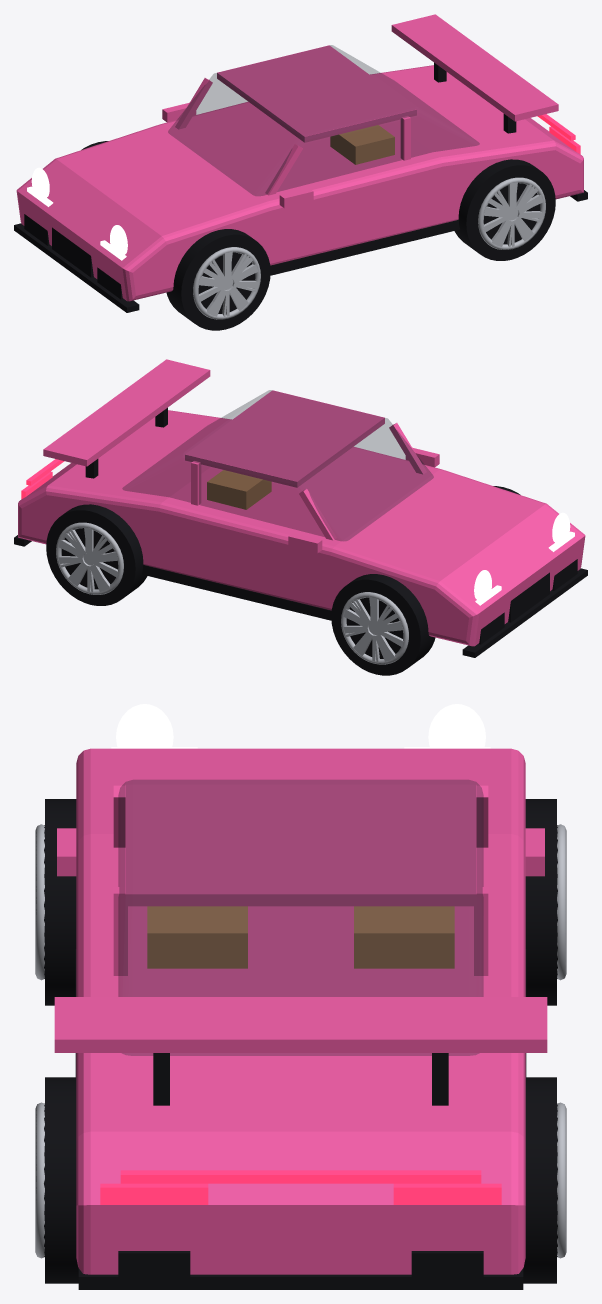
The model's file is porsche.glb.
The picture shows the model from 3 angles, top to bottom: view 1: azimuth 30°, elevation 25°; view 2: azimuth 150°, elevation 25°; view 3: azimuth 270°, elevation 25°; orthographic projection. The views are drawn at different scales.
Parts seen in each view (by area): view 1: object 1, object 2, roof, object 178, object 50, object 122, object 12, object 171, object 167, object 52, object 124, object 166 (+8 smaller); view 2: object 1, object 2, roof, object 178, object 14, object 86, object 7, object 169, object 167, object 16, object 88, object 166 (+8 smaller); view 3: object 1, object 2, roof, object 178, object 86, object 122, object 169, object 171, object 168, object 14, object 50, object 175 (+18 smaller).
Boxes of the visible parts, x1=… form: object 1: x1=16, y1=65, x2=583, y2=301; object 2: x1=168, y1=45, x2=479, y2=195; roof: x1=217, y1=45, x2=416, y2=142; object 178: x1=391, y1=14, x2=558, y2=121; object 50: x1=166, y1=229, x2=270, y2=330; object 122: x1=454, y1=159, x2=555, y2=260; object 12: x1=270, y1=220, x2=459, y2=275; object 171: x1=330, y1=125, x2=394, y2=164; object 167: x1=14, y1=223, x2=139, y2=312; object 52: x1=193, y1=247, x2=260, y2=319; object 124: x1=478, y1=177, x2=545, y2=249; object 166: x1=52, y1=227, x2=93, y2=277; object 1: x1=18, y1=410, x2=585, y2=646; object 2: x1=122, y1=390, x2=433, y2=540; roof: x1=185, y1=390, x2=384, y2=487; object 178: x1=43, y1=359, x2=210, y2=466; object 14: x1=331, y1=574, x2=435, y2=675; object 86: x1=46, y1=504, x2=147, y2=605; object 7: x1=142, y1=565, x2=331, y2=620; object 169: x1=207, y1=470, x2=271, y2=509; object 167: x1=462, y1=568, x2=587, y2=657; object 16: x1=341, y1=592, x2=408, y2=664; object 88: x1=56, y1=522, x2=123, y2=594; object 166: x1=508, y1=572, x2=549, y2=622; object 1: x1=76, y1=748, x2=525, y2=1274; object 2: x1=118, y1=780, x2=483, y2=1055; roof: x1=125, y1=784, x2=476, y2=906; object 178: x1=54, y1=997, x2=547, y2=1052; object 86: x1=523, y1=1077, x2=556, y2=1283; object 122: x1=45, y1=1077, x2=78, y2=1283; object 169: x1=354, y1=906, x2=454, y2=968; object 171: x1=147, y1=906, x2=247, y2=968; object 168: x1=78, y1=1268, x2=523, y2=1289; object 14: x1=525, y1=799, x2=556, y2=1005; object 50: x1=45, y1=799, x2=76, y2=1005; object 175: x1=120, y1=1170, x2=481, y2=1183.
Bounding box in the file's own units: 4.45 × 1.42 × 2.21.
